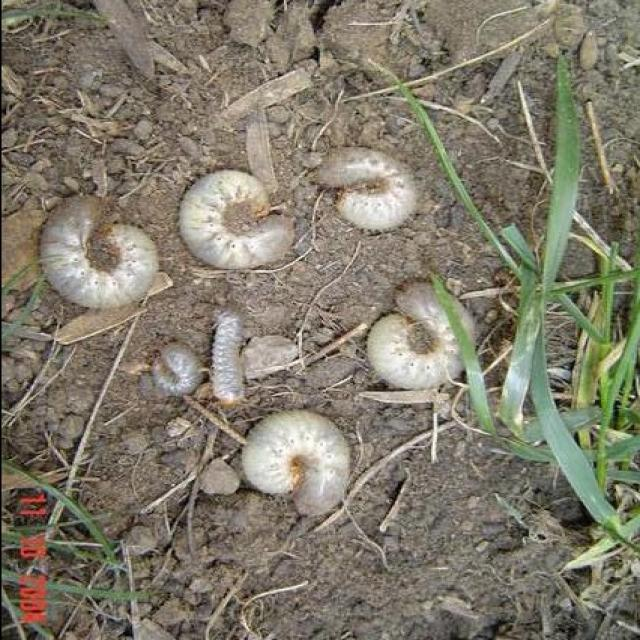grub: (29, 204, 162, 323), (362, 291, 481, 393), (248, 410, 350, 526), (307, 149, 422, 239), (185, 175, 283, 276), (203, 312, 244, 414), (152, 345, 203, 410)
